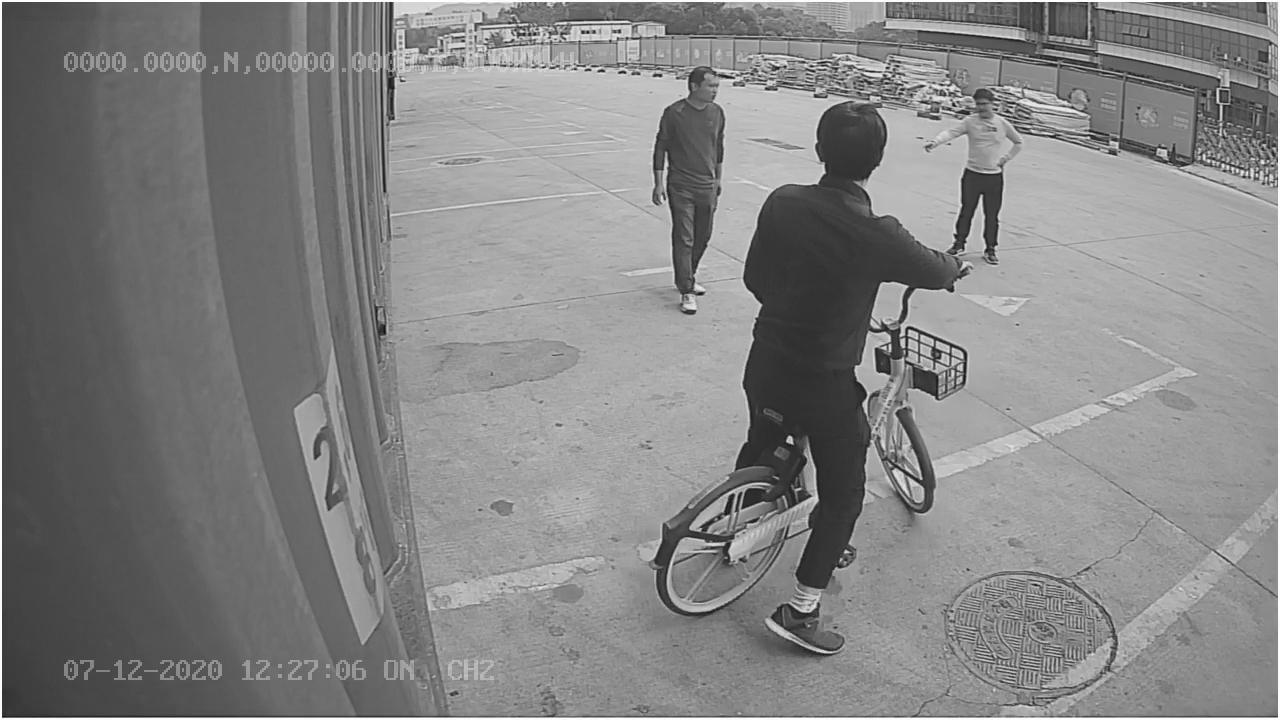person: (646, 62, 733, 321)
